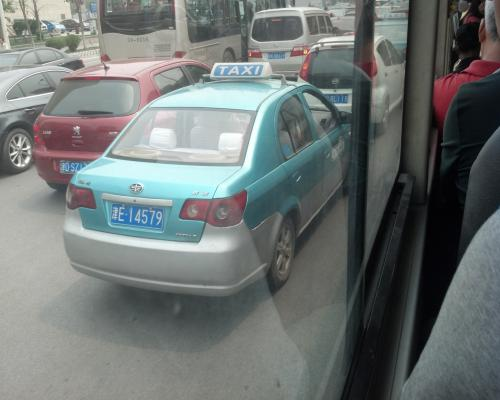Carplate: (107, 198, 168, 233)
